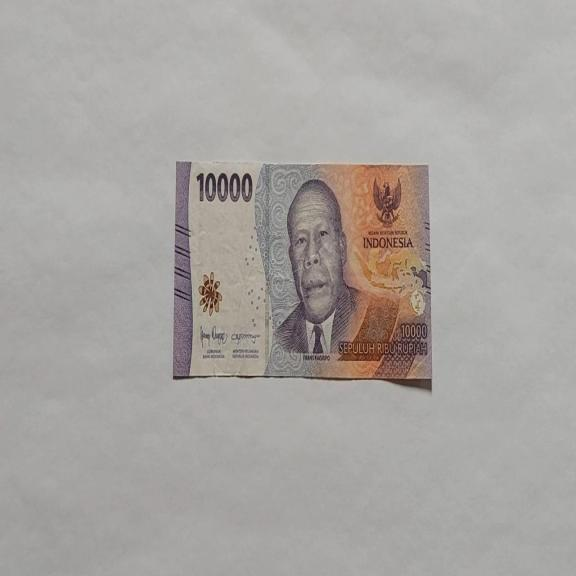Kertas: (173, 158, 432, 384)
